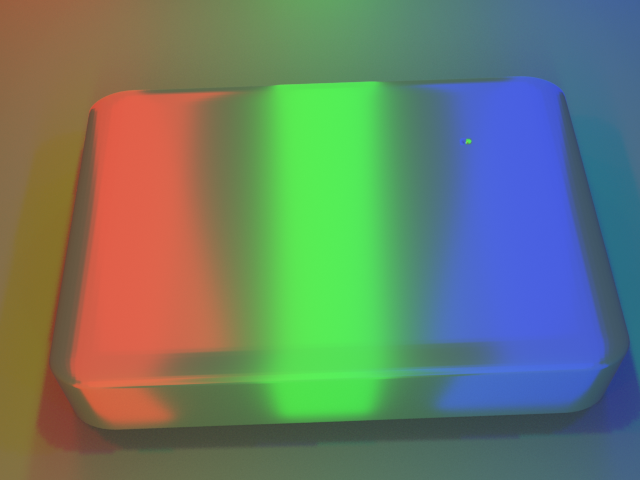dent: (464, 117, 498, 147)
